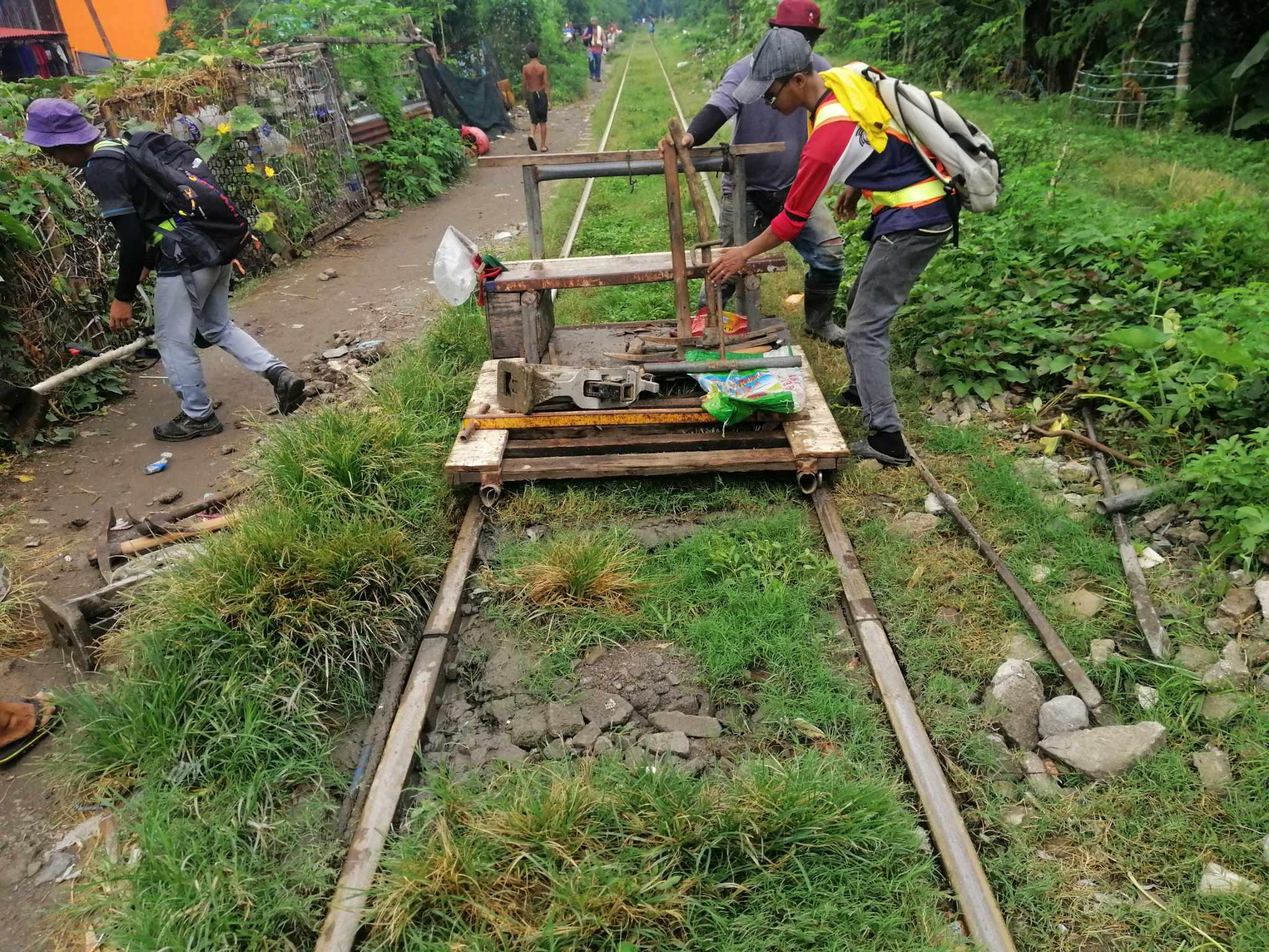railway-gap: (391, 590, 477, 684), (824, 577, 908, 668)
